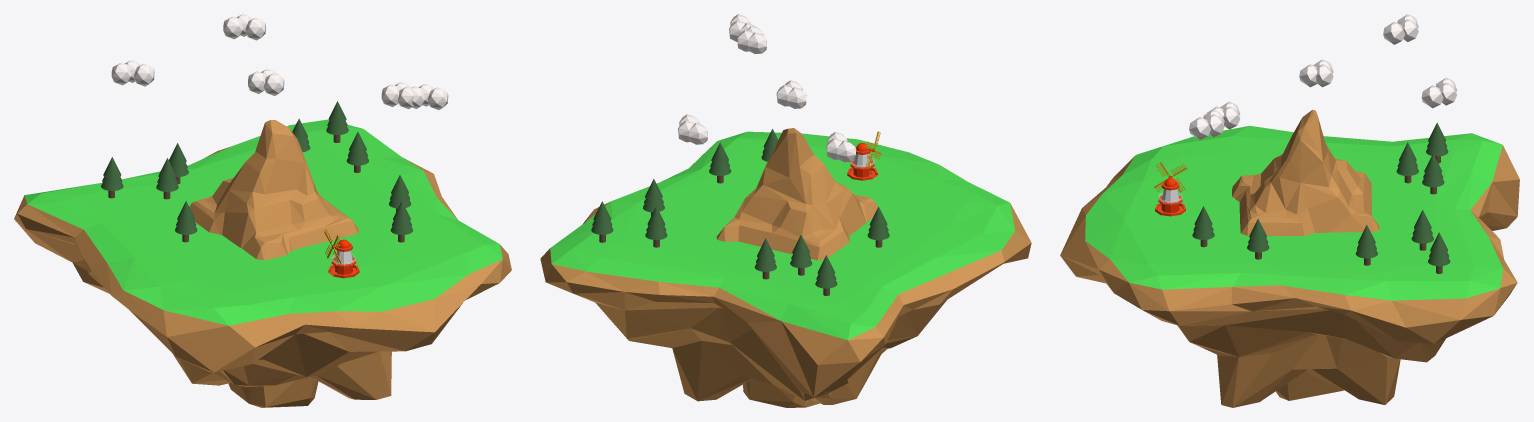
File: island.gltf
3 views of the same model, side by side, from view 1: azimuth 30°, elevation 25°; view 2: azimuth 150°, elevation 25°; view 3: azimuth 270°, elevation 25° (orthographic).
Parts seen in each view (by area): view 1: Cube, Plane; view 2: Cube, Plane; view 3: Cube, Plane, Circle.
Part boxes in pixels (x1=…): Cube: x1=14, y1=119, x2=511, y2=407; Plane: x1=189, y1=120, x2=358, y2=260; Cube: x1=540, y1=131, x2=1031, y2=407; Plane: x1=716, y1=128, x2=877, y2=260; Cube: x1=1060, y1=125, x2=1519, y2=407; Plane: x1=1232, y1=109, x2=1379, y2=235; Circle: x1=1158, y1=189, x2=1182, y2=213.
Bounding box in the file's own units: 37.98 × 31.89 × 41.1.
